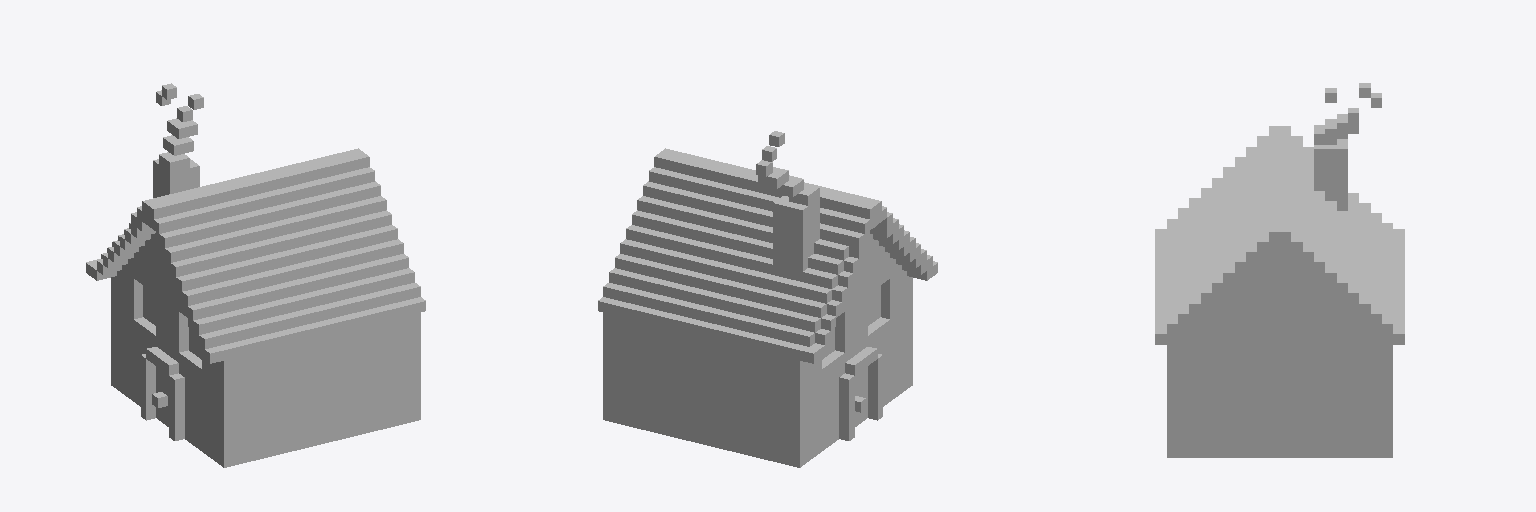
File: house.obj
3 renders of one model, left to right at view 1: azimuth 30°, elevation 25°; view 2: azimuth 150°, elevation 25°; view 3: azimuth 270°, elevation 25°, orthographic.
Size of the model in its own units: 22 by 29 by 22.